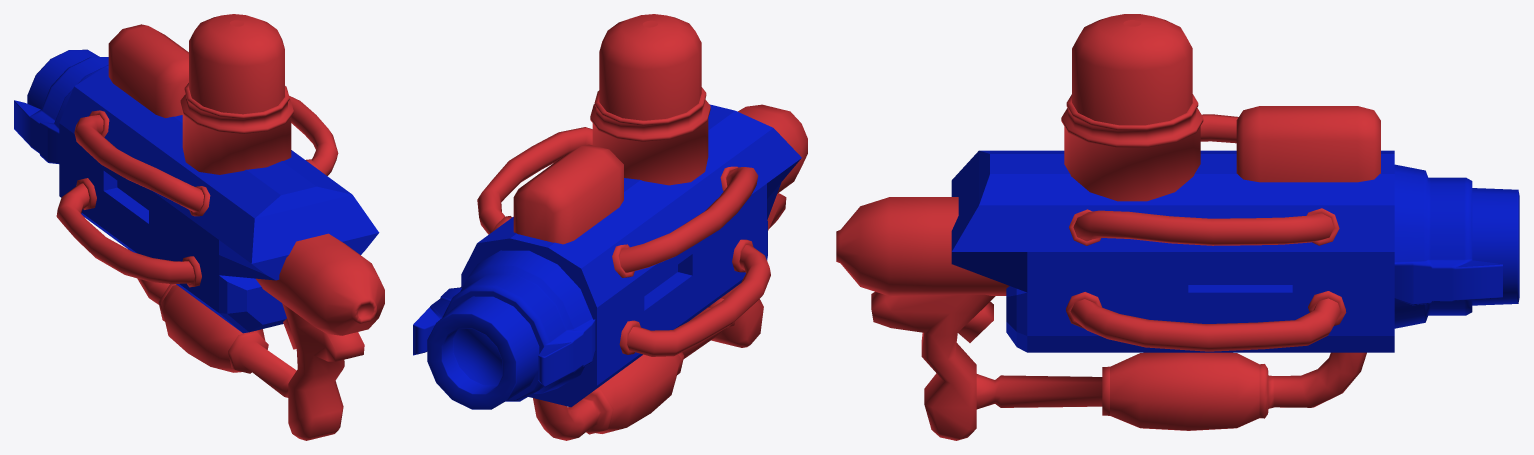
File: gun.fbx
3 renders of one model, left to right at view 1: azimuth 30°, elevation 25°; view 2: azimuth 150°, elevation 25°; view 3: azimuth 270°, elevation 25°, orthographic. The views are drawn at different scales.
Parts seen in each view (by area): view 1: gunbody, box, glass, thread, handle, second, gunco; view 2: gunbody, box, glass, thread, second, gunco, handle; view 3: gunbody, box, glass, thread, second, handle, gunco, press.
Part boxes in pixels (<box>): gunbody: <box>59,66,379,333</box>; box: <box>56,95,384,372</box>; glass: <box>108,14,284,118</box>; thread: <box>76,83,322,397</box>; handle: <box>282,303,364,440</box>; second: <box>14,57,108,163</box>; gunco: <box>27,49,99,109</box>; gunbody: <box>461,104,801,407</box>; box: <box>477,104,807,433</box>; glass: <box>513,14,701,244</box>; thread: <box>492,87,753,440</box>; second: <box>413,250,595,401</box>; gunco: <box>427,296,539,409</box>; handle: <box>711,193,786,347</box>; gunbody: <box>951,150,1394,352</box>; box: <box>836,114,1340,430</box>; glass: <box>1072,14,1380,182</box>; thread: <box>976,94,1366,418</box>; second: <box>1394,164,1502,328</box>; handle: <box>871,291,995,440</box>; gunco: <box>1472,188,1519,305</box>; press: <box>958,301,993,342</box>.
Bounding box in the file's own units: 854 × 1284 × 1941.
